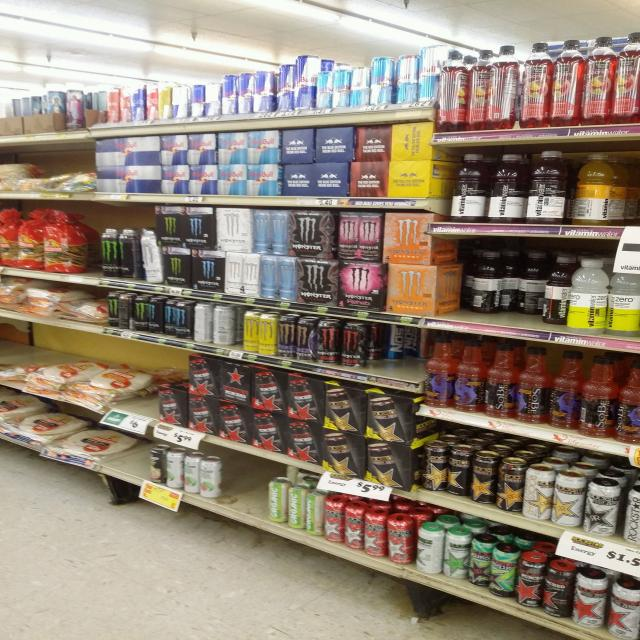empty: (221, 450, 269, 516), (107, 427, 154, 480), (130, 354, 159, 428), (74, 219, 107, 280)
